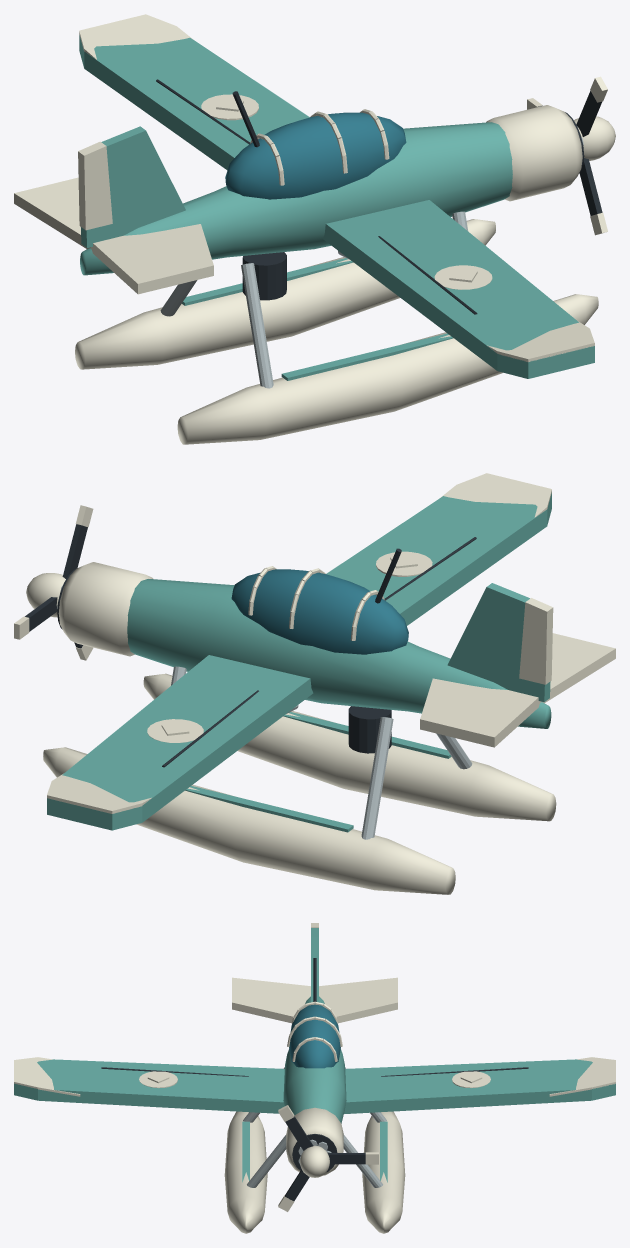
Rendered from scout.glb.
The picture shows the model from 3 angles, top to bottom: view 1: azimuth 30°, elevation 25°; view 2: azimuth 150°, elevation 25°; view 3: azimuth 270°, elevation 25°; orthographic projection. The views are drawn at different scales.
Parts seen in each view (by area): view 1: Aircraft_scout.002_Air_Seafoam.003, Aircraft_scout.002_Air_Ivory.003, Aircraft_scout.002_Air_Blue_Glass.003, Aircraft_scout.002_Air_Charcoal.003, Aircraft_scout.002_Air_Aluminium.003, Propeller_scout.002_Air_Ivory.003, Propeller_scout.002_Air_Charcoal.003; view 2: Aircraft_scout.002_Air_Seafoam.003, Aircraft_scout.002_Air_Ivory.003, Aircraft_scout.002_Air_Blue_Glass.003, Aircraft_scout.002_Air_Charcoal.003, Aircraft_scout.002_Air_Aluminium.003, Propeller_scout.002_Air_Ivory.003, Propeller_scout.002_Air_Charcoal.003; view 3: Aircraft_scout.002_Air_Seafoam.003, Aircraft_scout.002_Air_Ivory.003, Aircraft_scout.002_Air_Blue_Glass.003, Aircraft_scout.002_Air_Aluminium.003, Propeller_scout.002_Air_Ivory.003, Propeller_scout.002_Air_Charcoal.003, Aircraft_scout.002_Air_Charcoal.003.
Boxes of the visible parts, <box> form: Aircraft_scout.002_Air_Seafoam.003: <box>79,35,594,380</box>; Aircraft_scout.002_Air_Ivory.003: <box>14,14,598,444</box>; Aircraft_scout.002_Air_Blue_Glass.003: <box>225,112,406,199</box>; Aircraft_scout.002_Air_Charcoal.003: <box>156,79,584,314</box>; Aircraft_scout.002_Air_Aluminium.003: <box>160,137,583,388</box>; Propeller_scout.002_Air_Ivory.003: <box>527,76,615,235</box>; Propeller_scout.002_Air_Charcoal.003: <box>538,91,602,215</box>; Aircraft_scout.002_Air_Seafoam.003: <box>47,492,551,832</box>; Aircraft_scout.002_Air_Ivory.003: <box>43,473,615,894</box>; Aircraft_scout.002_Air_Blue_Glass.003: <box>231,569,408,654</box>; Aircraft_scout.002_Air_Charcoal.003: <box>57,537,476,767</box>; Aircraft_scout.002_Air_Aluminium.003: <box>57,584,472,839</box>; Propeller_scout.002_Air_Ivory.003: <box>14,505,93,660</box>; Propeller_scout.002_Air_Charcoal.003: <box>25,524,87,648</box>; Aircraft_scout.002_Air_Seafoam.003: <box>14,928,615,1182</box>; Aircraft_scout.002_Air_Ivory.003: <box>14,923,615,1233</box>; Aircraft_scout.002_Air_Blue_Glass.003: <box>289,1004,340,1068</box>; Aircraft_scout.002_Air_Aluminium.003: <box>243,1067,386,1187</box>; Propeller_scout.002_Air_Ivory.003: <box>278,1105,378,1211</box>; Propeller_scout.002_Air_Charcoal.003: <box>285,1116,365,1201</box>; Aircraft_scout.002_Air_Charcoal.003: <box>101,958,528,1172</box>.
Size of the model in its own units: 1.45 by 0.7856 by 2.1.
